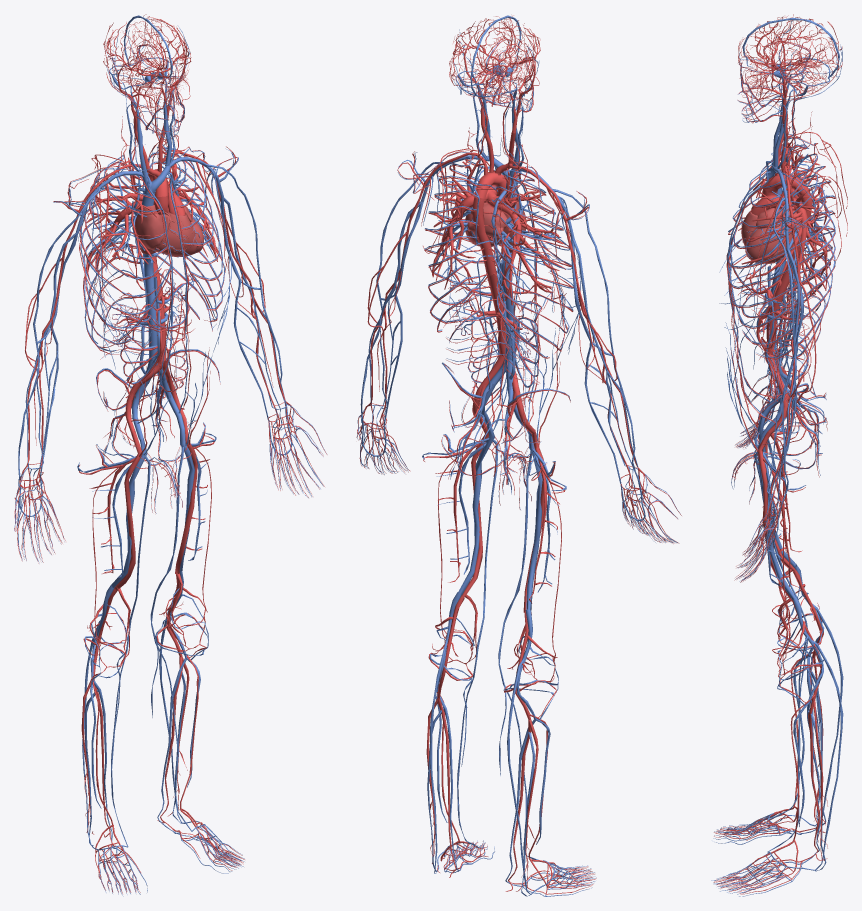
The model's file is circulatory.glb.
3 renders of one model, left to right at view 1: azimuth 30°, elevation 25°; view 2: azimuth 150°, elevation 25°; view 3: azimuth 270°, elevation 25°, orthographic. The views are drawn at different scales.
Visible parts, largest first — view 1: CRD.right_superior_intercostal_vein.C, CRD.posterior_intercostal_arteries.R, CRD.left_superior_intercostal_vein.C, CRD.right_atrium.C, CRD.right_ventricle.C, CRD.great_saphenous_vein.L, CRD.great_saphenous_vein.R, CRD.posterior_intercostal_arteries.L, CRD.femoral_artery.R, CRD.cephalic_vein.R, CRD.femoral_artery.L, CRD.femoral_vein.R (+2 smaller); view 2: CRD.right_superior_intercostal_vein.C, CRD.posterior_intercostal_arteries.R, CRD.left_superior_intercostal_vein.C, CRD.posterior_intercostal_arteries.L, CRD.great_saphenous_vein.L, CRD.great_saphenous_vein.R, CRD.femoral_vein.L, CRD.femoral_vein.R, CRD.thoracic_aorta.C, CRD.cephalic_vein.R, CRD.femoral_artery.L, CRD.basilic_vein.R (+3 smaller); view 3: CRD.left_superior_intercostal_vein.C, CRD.posterior_intercostal_arteries.L, CRD.left_ventricle.C, CRD.right_superior_intercostal_vein.C, CRD.cephalic_vein.L, CRD.small_saphenous_vein.L, CRD.femoral_artery.L, CRD.great_saphenous_vein.R, CRD.small_saphenous_vein.R, CRD.abdominal_aorta.C, CRD.great_saphenous_vein.L, CRD.posterior_intercostal_arteries.R (+24 smaller).
Part boxes in pixels (x1=…): CRD.right_superior_intercostal_vein.C: x1=80, y1=155, x2=171, y2=351; CRD.posterior_intercostal_arteries.R: x1=79, y1=163, x2=168, y2=354; CRD.left_superior_intercostal_vein.C: x1=143, y1=147, x2=225, y2=330; CRD.right_atrium.C: x1=135, y1=203, x2=169, y2=254; CRD.right_ventricle.C: x1=153, y1=211, x2=196, y2=256; CRD.great_saphenous_vein.L: x1=150, y1=447, x2=191, y2=831; CRD.great_saphenous_vein.R: x1=111, y1=456, x2=150, y2=846; CRD.posterior_intercostal_arteries.L: x1=148, y1=153, x2=225, y2=331; CRD.femoral_artery.R: x1=114, y1=431, x2=142, y2=590; CRD.cephalic_vein.R: x1=18, y1=187, x2=100, y2=488; CRD.femoral_artery.L: x1=175, y1=419, x2=197, y2=574; CRD.femoral_vein.R: x1=112, y1=438, x2=147, y2=587; CRD.right_superior_intercostal_vein.C: x1=492, y1=170, x2=573, y2=357; CRD.posterior_intercostal_arteries.R: x1=477, y1=187, x2=573, y2=358; CRD.left_superior_intercostal_vein.C: x1=424, y1=156, x2=501, y2=330; CRD.posterior_intercostal_arteries.L: x1=424, y1=177, x2=500, y2=332; CRD.great_saphenous_vein.L: x1=457, y1=439, x2=498, y2=844; CRD.great_saphenous_vein.R: x1=498, y1=451, x2=539, y2=860; CRD.femoral_vein.L: x1=458, y1=425, x2=494, y2=594; CRD.femoral_vein.R: x1=526, y1=435, x2=542, y2=610; CRD.thoracic_aorta.C: x1=472, y1=197, x2=495, y2=275; CRD.cephalic_vein.R: x1=553, y1=189, x2=642, y2=496; CRD.femoral_artery.L: x1=461, y1=419, x2=488, y2=597; CRD.basilic_vein.R: x1=571, y1=238, x2=621, y2=483; CRD.left_superior_intercostal_vein.C: x1=728, y1=164, x2=835, y2=358; CRD.posterior_intercostal_arteries.L: x1=728, y1=175, x2=835, y2=359; CRD.left_ventricle.C: x1=746, y1=224, x2=792, y2=263; CRD.right_superior_intercostal_vein.C: x1=728, y1=144, x2=835, y2=304; CRD.cephalic_vein.L: x1=773, y1=197, x2=795, y2=518; CRD.small_saphenous_vein.L: x1=802, y1=640, x2=843, y2=870; CRD.femoral_artery.L: x1=758, y1=431, x2=793, y2=601; CRD.great_saphenous_vein.R: x1=754, y1=432, x2=819, y2=820; CRD.small_saphenous_vein.R: x1=802, y1=603, x2=843, y2=826; CRD.abdominal_aorta.C: x1=764, y1=266, x2=792, y2=354; CRD.great_saphenous_vein.L: x1=754, y1=452, x2=819, y2=851; CRD.posterior_intercostal_arteries.R: x1=728, y1=153, x2=835, y2=308.
Size of the model in its own units: 0.6638 by 1.7 by 0.2487.
